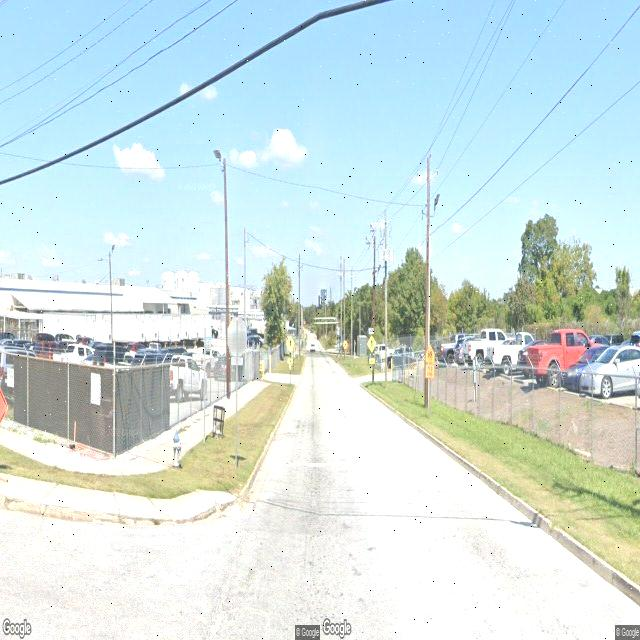trash_can: (212, 404, 225, 438)
